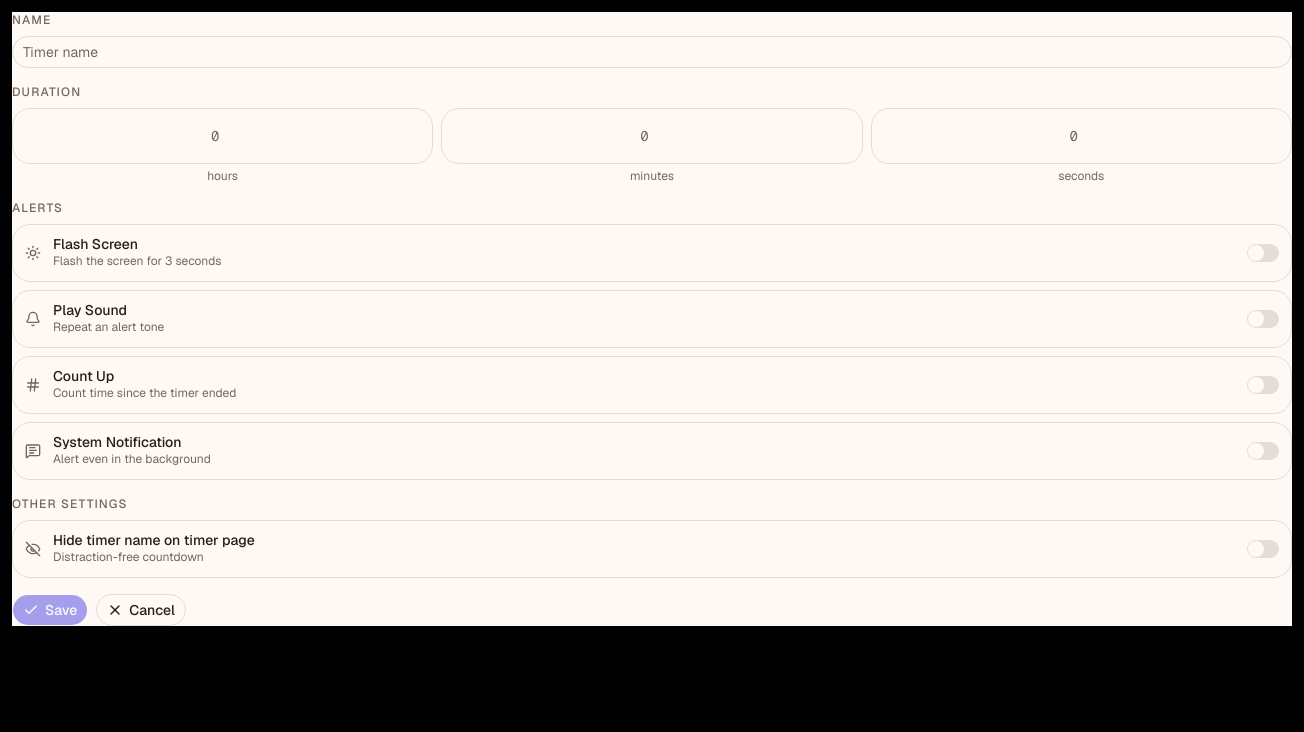
TimerForm › alert card rows › reveals the sound sub-controls when sound is enabled
The image size is (1304, 732).
What coordinates should you click on to do the following:
click the switch named "Play Sound" in the row of "Repeat an alert tone"
I would click on:
 (1263, 319)
Its box is [1247, 310, 1279, 328].
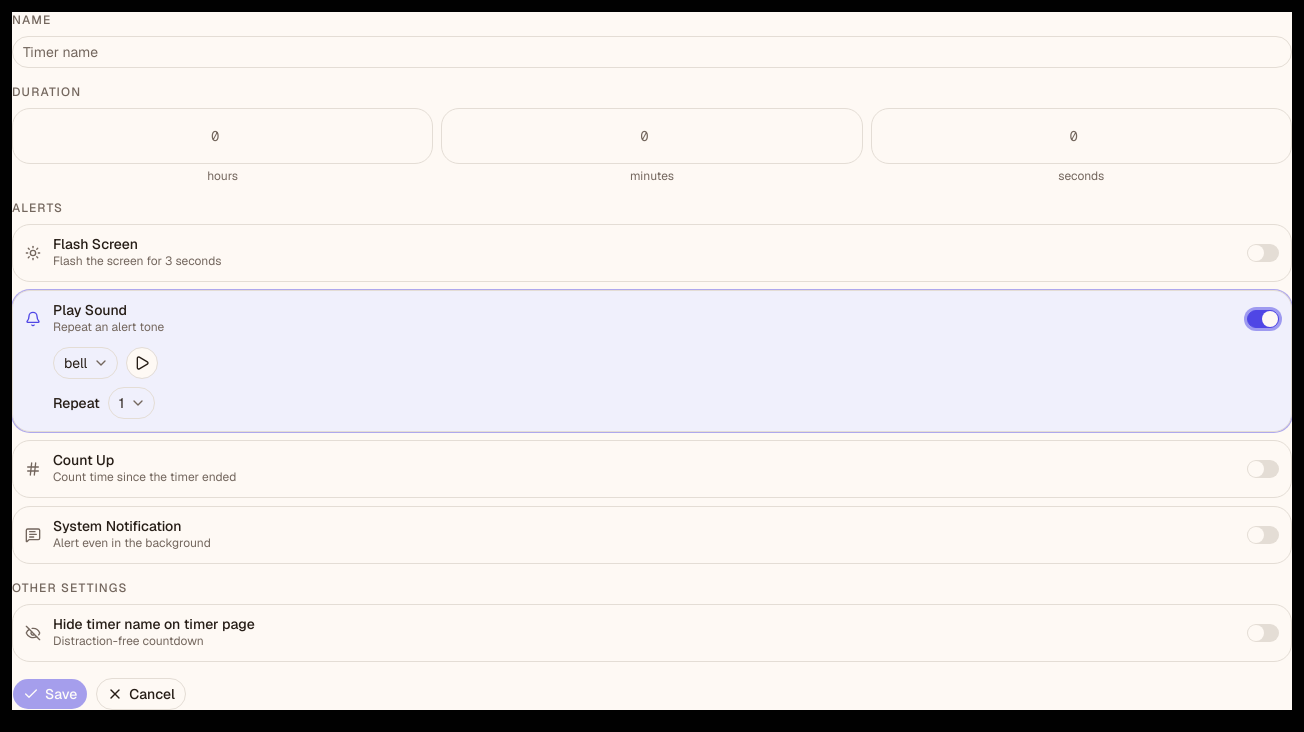
Now the dropdown named "Sound" is shown, box [53, 347, 118, 379]
